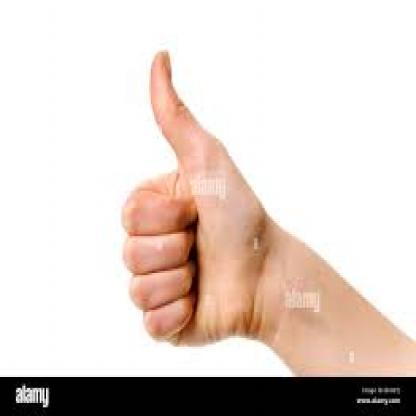thumb_up: (116, 47, 266, 352)
